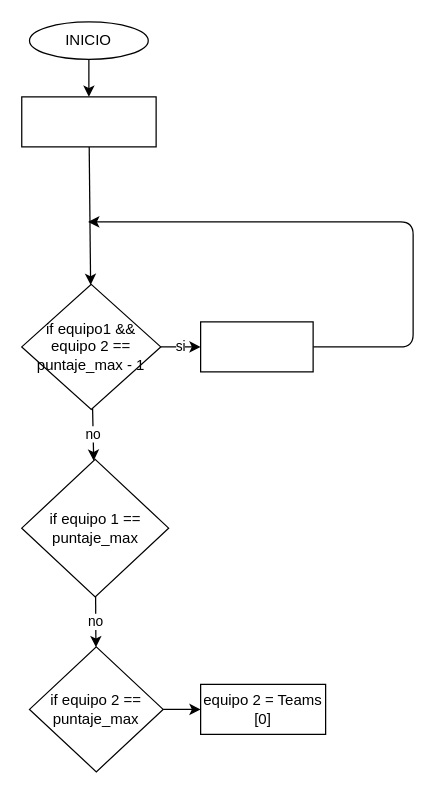
Some shapes in this 446 by 794 pixel diagram are drawn without their labels. Here are the shapes that lost their labels. From the top down, the box of each, then its label:
(20, 96, 156, 147): Puntaje_max = 7 Equipos[]
(199, 321, 313, 372): puntaje_max = puntaje_max + 2
